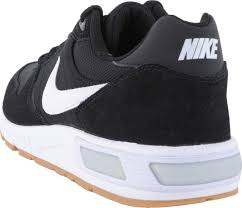nike: (39, 54, 108, 114)
